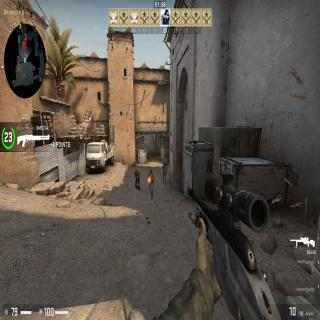T-Body: (147, 169, 154, 199), (134, 167, 140, 192), (162, 162, 166, 186), (165, 154, 168, 172)
T-Head: (149, 169, 152, 175), (135, 167, 138, 172), (165, 155, 167, 160), (163, 162, 165, 166)
